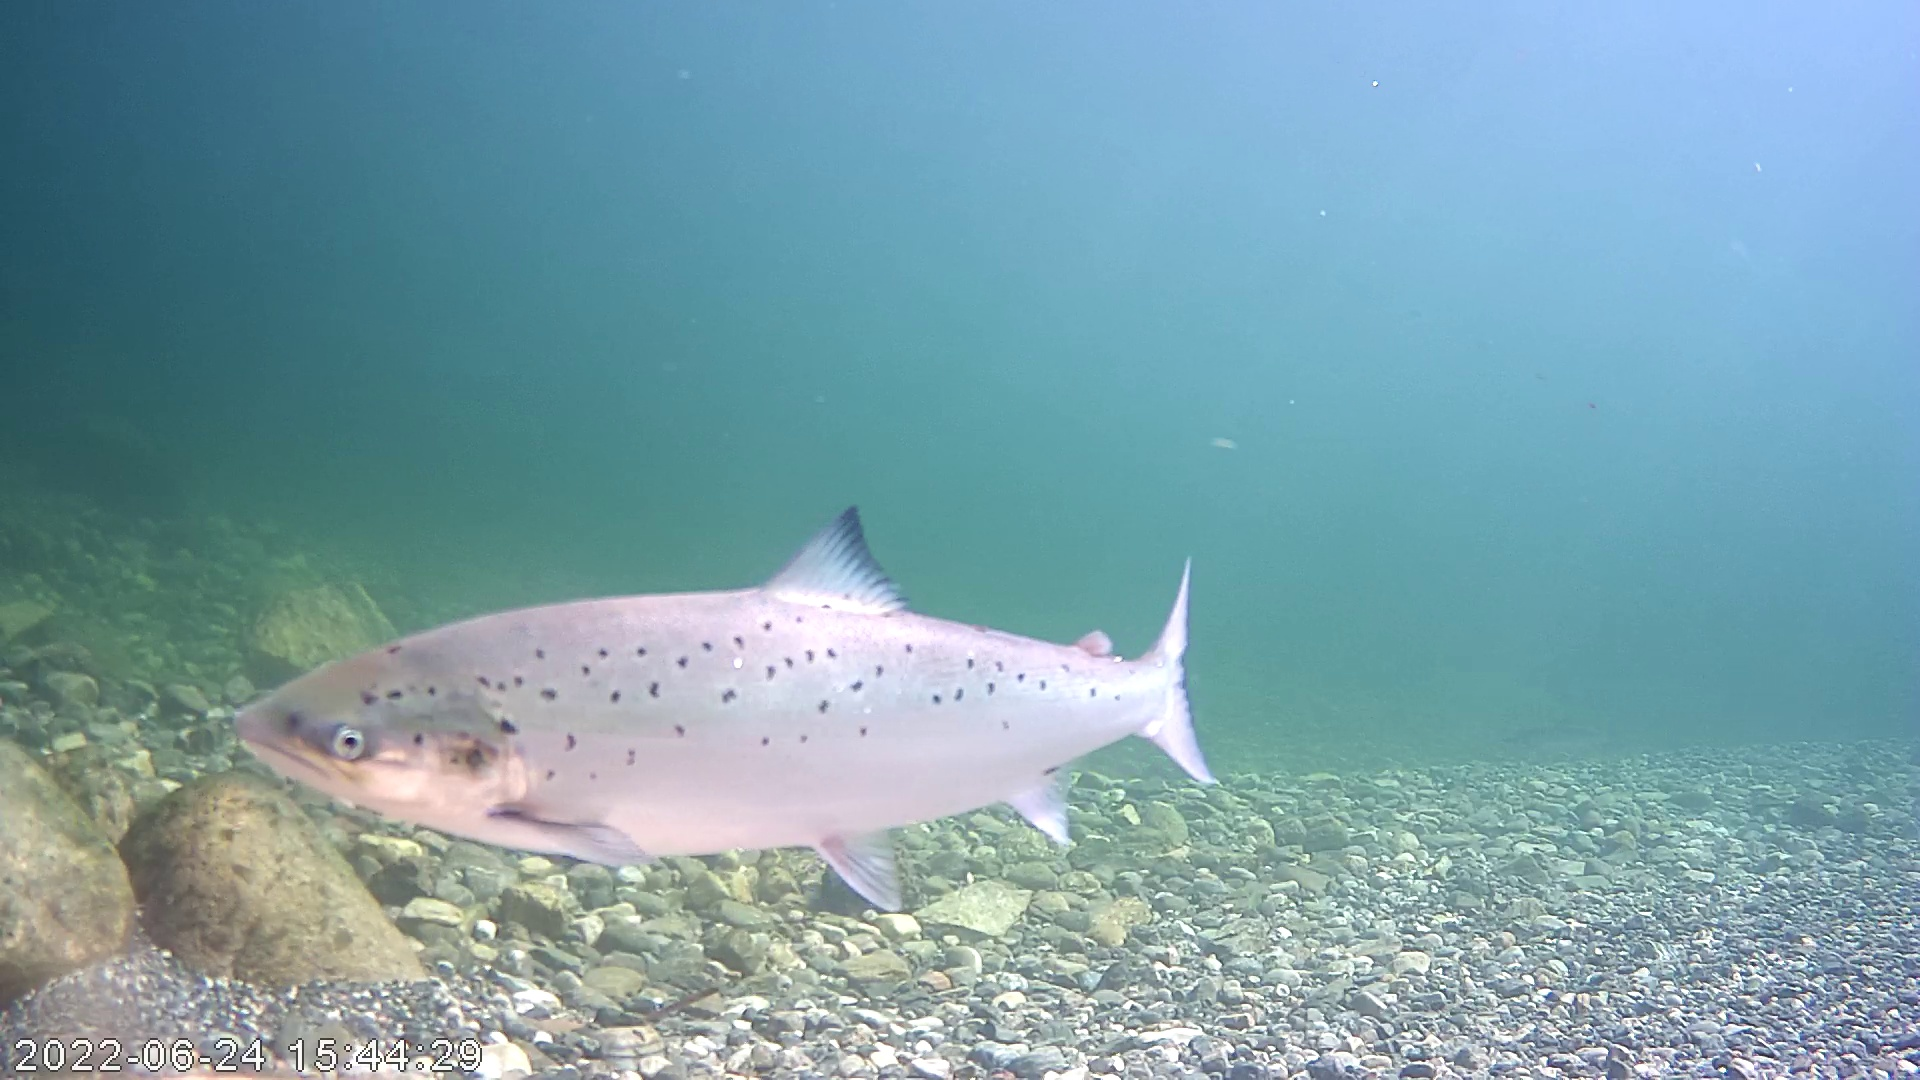salmon: (229, 502, 1218, 914)
